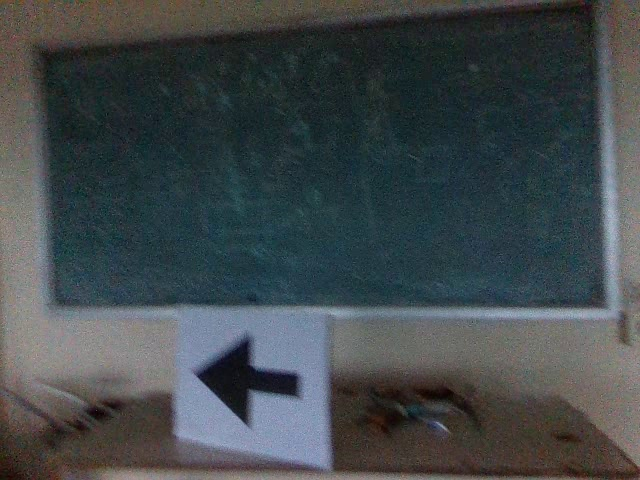Left: (189, 328, 308, 429)
